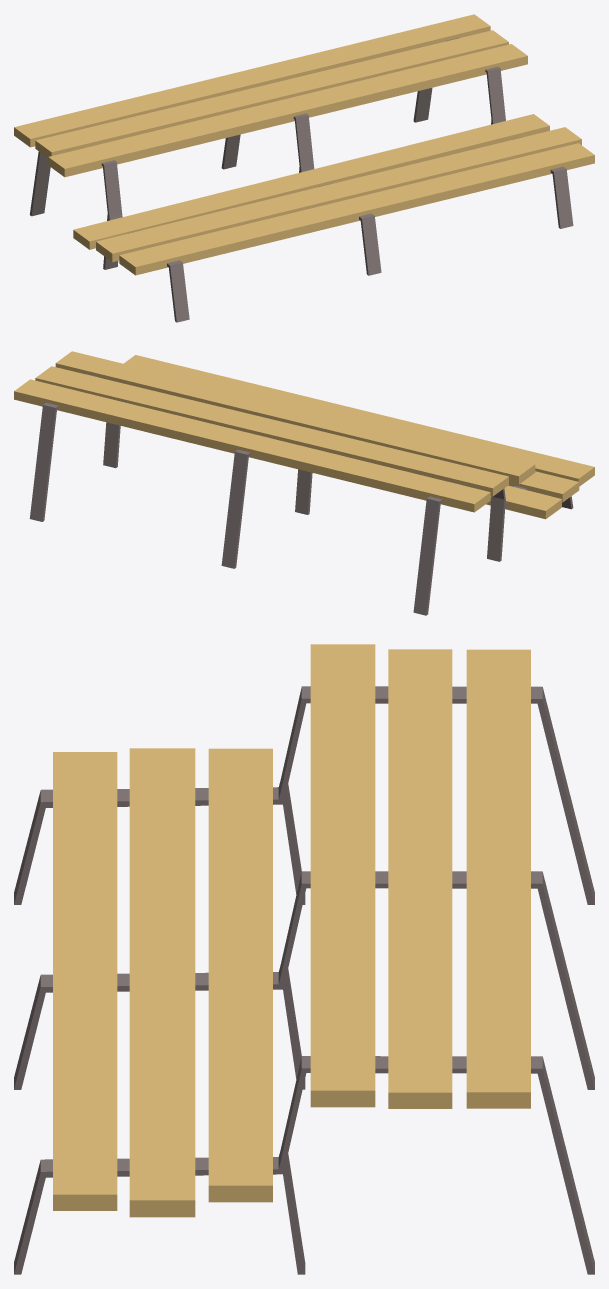
File: showbench.gltf
The picture shows the model from 3 angles, top to bottom: view 1: azimuth 30°, elevation 25°; view 2: azimuth 150°, elevation 25°; view 3: azimuth 270°, elevation 25°; orthographic projection. The views are drawn at different scales.
Visible parts, largest first — view 1: Cube.004, Cube.001, Cube, Cube.005, Cube.002, Cube.003, Cube.008, Cube.006, Cube.007; view 2: Cube.005, Cube.004, Cube.003, Cube.001, Cube.008, Cube.007, Cube.006, Cube.002, Cube; view 3: Cube, Cube.004, Cube.003, Cube.005, Cube.001, Cube.002, Cube.007, Cube.006, Cube.008.
Boxes of the visible parts, x1,y1,x2,y2 form: Cube.004: (48, 44, 527, 177); Cube.001: (119, 143, 594, 275); Cube: (96, 127, 581, 262); Cube.005: (14, 14, 490, 147); Cube.002: (73, 114, 549, 249); Cube.003: (35, 30, 508, 157); Cube.008: (29, 151, 189, 322); Cube.006: (221, 84, 381, 275); Cube.007: (413, 37, 573, 228); Cube.005: (14, 379, 490, 512); Cube.004: (55, 351, 535, 484); Cube.003: (35, 366, 508, 496); Cube.001: (123, 355, 594, 486); Cube.008: (413, 481, 573, 615); Cube.007: (29, 374, 120, 521); Cube.006: (221, 435, 312, 568); Cube.002: (486, 485, 561, 519); Cube: (508, 471, 579, 502); Cube: (129, 748, 195, 1217); Cube.004: (310, 644, 375, 1107); Cube.003: (388, 649, 452, 1108); Cube.005: (466, 649, 530, 1108); Cube.001: (53, 752, 117, 1210); Cube.002: (208, 748, 272, 1202); Cube.007: (14, 1056, 594, 1274); Cube.006: (14, 871, 594, 1089); Cube.008: (14, 686, 594, 904).
Bounding box in the file's own units: 12.31 × 2.7 × 6.64.
